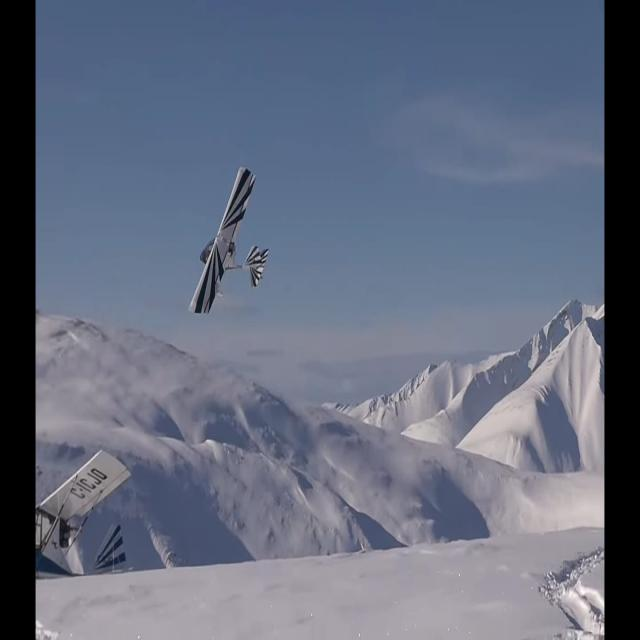iha: (220, 164, 237, 315)
